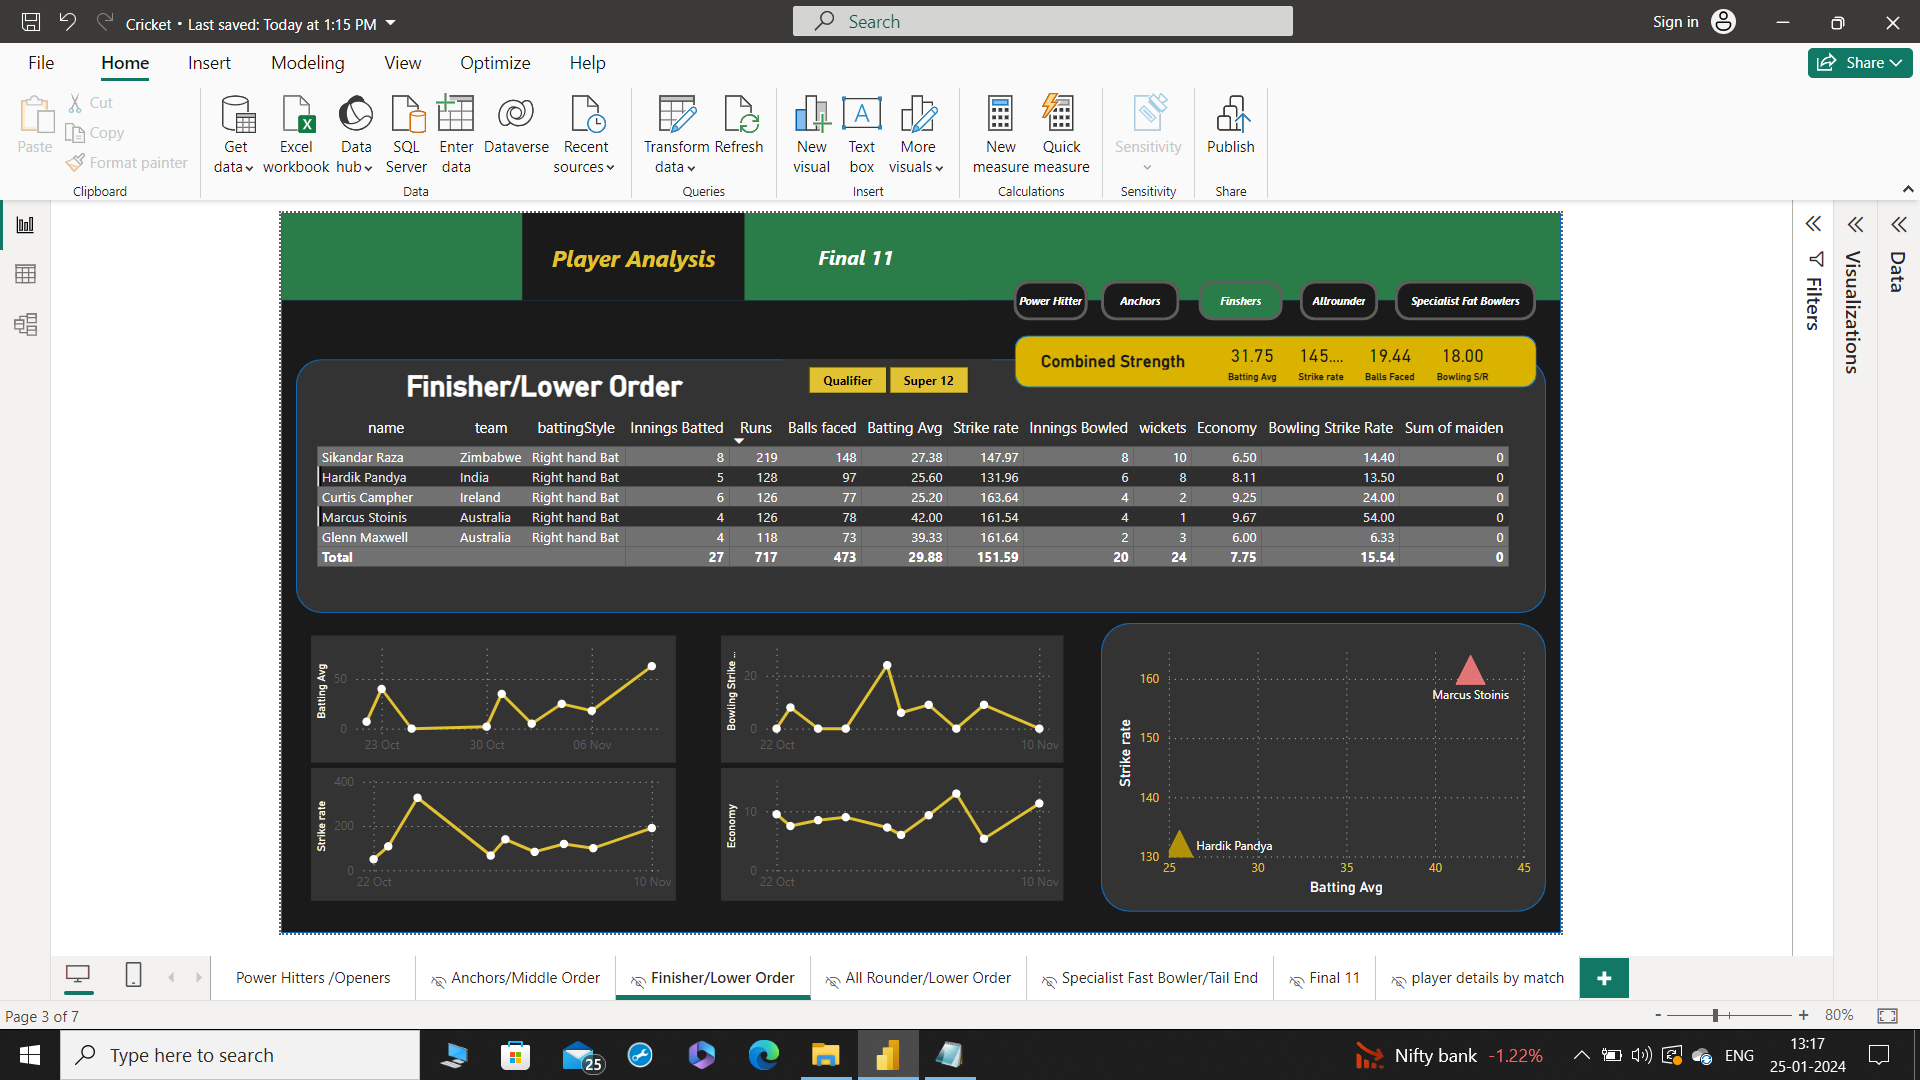

What the dashboard file says about the page in this screenshot:
{"tool":"powerbi","page":{"name":"Finisher/Lower Order","canvas":[1280,720],"ordinal":2},"visuals":[{"type":"shape","box":[0,78.8,1280,641.2],"z":0},{"type":"shape","box":[0,0,1280,87.1],"z":1000},{"type":"lineChart","fields":{"Y":["Key Measures.Batting Avg"],"Category":["dim_match_summary.matchDate"]},"box":[30,422.5,365,127.5],"z":2000},{"type":"lineChart","fields":{"Y":["Key Measures.Strike rate"],"Category":["dim_match_summary.matchDate"]},"box":[30,555,365,132.5],"z":3000},{"type":"lineChart","fields":{"Y":["Key Measures.Economy"],"Category":["dim_match_summary.matchDate"]},"box":[440,555,342.5,132.5],"z":4000},{"type":"lineChart","fields":{"Y":["Key Measures.Bowling Strike Rate"],"Category":["dim_match_summary.matchDate"]},"box":[440,422.5,342.5,127.5],"z":5000},{"type":"actionButton","box":[241.2,0,222.5,87.5],"z":6000},{"type":"shape","box":[820,410,445,288.8],"z":7000},{"type":"actionButton","box":[463.8,0,222.5,87.5],"z":8000},{"type":"actionButton","box":[732.9,67.1,74.3,40],"z":9000},{"type":"shape","box":[15,146.2,1250,253.8],"z":10000},{"type":"actionButton","box":[820,67.1,78.6,40],"z":11000},{"type":"actionButton","box":[917.1,67.1,84.3,40],"z":12000},{"type":"actionButton","box":[1114.3,67.1,141.4,40],"z":13000},{"type":"slicer","fields":{"Values":["dim_match_summary.stage"]},"box":[501.2,146.2,210,41.2],"z":15000},{"type":"scatterChart","fields":{"X":["Key Measures.Batting Avg"],"Y":["Key Measures.Strike rate"],"Category":["dim_players.name"],"Series":["dim_players.name"],"Size":["Key Measures.Total Runs"]},"box":[831.2,422.5,423.8,265],"z":16000},{"type":"textbox","box":[105.7,151.4,314.3,45.7],"z":17000},{"type":"tableEx","title":"Shortlisted Based On Criteria","fields":{"Values":["dim_players.name","dim_players.team","dim_players.battingStyle","Key Measures.Total Innings Batted","Key Measures.Total Runs","Key Measures.total balls faced","Key Measures.Batting Avg","Key Measures.Strike rate","Key Measures.Total Innings Bowled","Key Measures.wickets","Key Measures.Economy","Key Measures.Bowling Strike Rate"]},"box":[30,197.1,1225.7,192.9],"z":18000},{"type":"actionButton","box":[1018.6,67.1,78.6,40],"z":19000},{"type":"shape","box":[733.1,122.5,521.9,51.9],"z":19001},{"type":"textbox","title":"Combined Strength","box":[755,137.5,162.5,21.2],"z":19002},{"type":"card","fields":{"Values":["Key Measures.Batting Avg"]},"box":[940,122.1,62.9,51.4],"z":19003},{"type":"card","fields":{"Values":["Key Measures.Strike rate"]},"box":[1008.6,122.1,62.9,51.4],"z":19004},{"type":"card","fields":{"Values":["Key Measures.Average Balls Faced"]},"box":[1077.1,122.9,62.9,51.4],"z":19005},{"type":"card","fields":{"Values":["Key Measures.Bowling Strike Rate"]},"box":[1147.1,122.1,68.6,51.4],"z":19006},{"type":"card","fields":{"Values":["Key Measures.Display Text"]},"box":[746.2,132.5,493.8,32.5],"z":19007}]}

Visuals, with their boxes on the page's 1280x720 design canvas (x1, y1, x2, y2). These are canvas units, not pixel positions in the 1920x1080 screenshot, which may show the page scaled, cropped or inside an application window:
shape: select_region(0, 79, 1280, 720)
shape: select_region(0, 0, 1280, 87)
lineChart - Key Measures.Batting Avg x dim_match_summary.matchDate: select_region(30, 422, 395, 550)
lineChart - Key Measures.Strike rate x dim_match_summary.matchDate: select_region(30, 555, 395, 688)
lineChart - Key Measures.Economy x dim_match_summary.matchDate: select_region(440, 555, 782, 688)
lineChart - Key Measures.Bowling Strike Rate x dim_match_summary.matchDate: select_region(440, 422, 782, 550)
actionButton: select_region(241, 0, 464, 88)
shape: select_region(820, 410, 1265, 699)
actionButton: select_region(464, 0, 686, 88)
actionButton: select_region(733, 67, 807, 107)
shape: select_region(15, 146, 1265, 400)
actionButton: select_region(820, 67, 899, 107)
actionButton: select_region(917, 67, 1001, 107)
actionButton: select_region(1114, 67, 1256, 107)
slicer - dim_match_summary.stage: select_region(501, 146, 711, 187)
scatterChart - Key Measures.Batting Avg x Key Measures.Strike rate: select_region(831, 422, 1255, 688)
textbox: select_region(106, 151, 420, 197)
"Shortlisted Based On Criteria" tableEx: select_region(30, 197, 1256, 390)
actionButton: select_region(1019, 67, 1097, 107)
shape: select_region(733, 122, 1255, 174)
"Combined Strength" textbox: select_region(755, 138, 918, 159)
card - Key Measures.Batting Avg: select_region(940, 122, 1003, 174)
card - Key Measures.Strike rate: select_region(1009, 122, 1072, 174)
card - Key Measures.Average Balls Faced: select_region(1077, 123, 1140, 174)
card - Key Measures.Bowling Strike Rate: select_region(1147, 122, 1216, 174)
card - Key Measures.Display Text: select_region(746, 132, 1240, 165)
